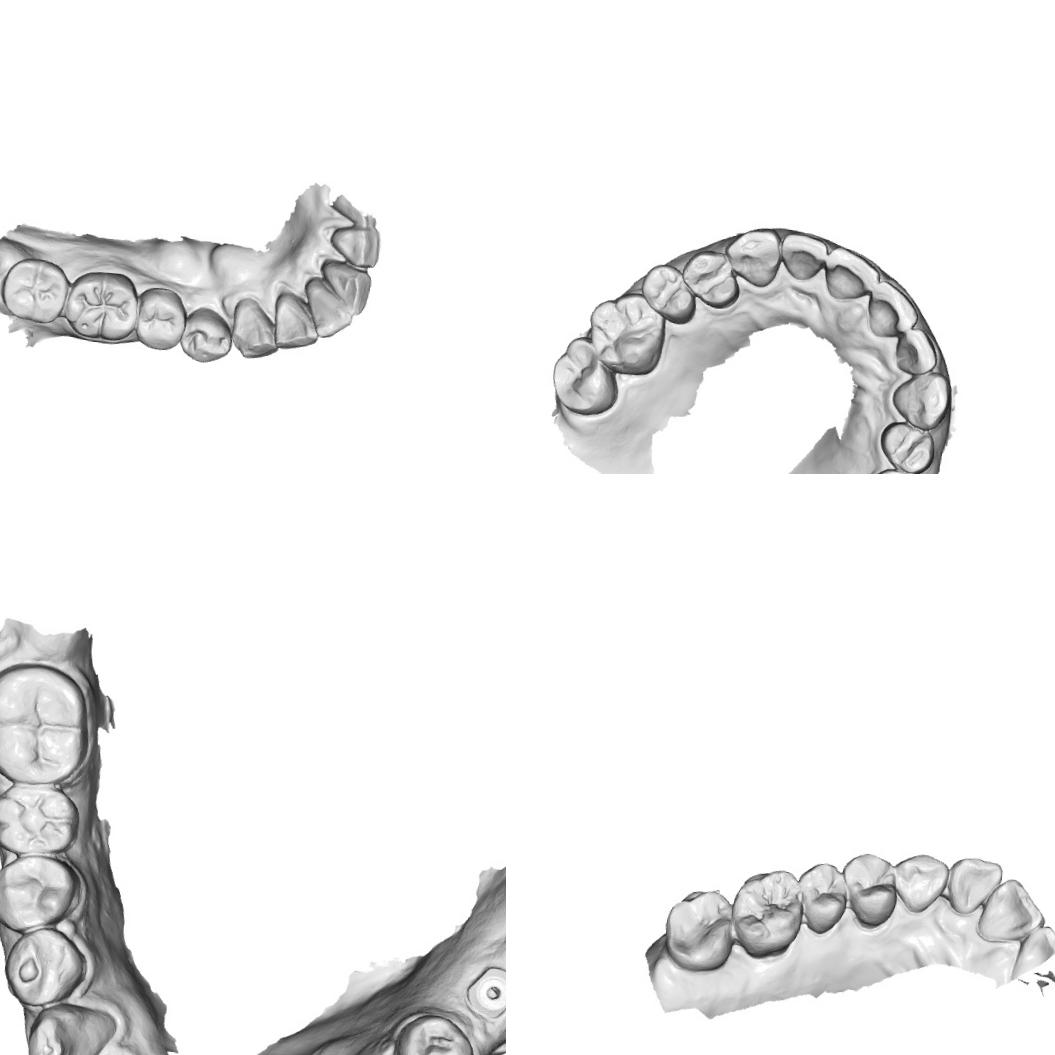canine: (20, 997, 115, 1055), (720, 221, 784, 291), (890, 849, 951, 917), (888, 368, 951, 432), (227, 295, 283, 361)
implant: (462, 957, 506, 1022)
incisor: (976, 874, 1048, 958), (943, 854, 1004, 919), (300, 274, 356, 340), (270, 288, 324, 353), (315, 257, 374, 316), (864, 278, 920, 340), (821, 244, 880, 302), (1010, 920, 1055, 985), (778, 225, 830, 280), (326, 218, 382, 268), (892, 325, 940, 376)
molar: (0, 659, 95, 791), (725, 864, 807, 962), (582, 287, 671, 375), (0, 777, 82, 861), (660, 883, 734, 976), (548, 333, 620, 420), (60, 266, 140, 343), (0, 252, 72, 326)
premolar: (0, 925, 86, 1010), (0, 854, 81, 932), (837, 849, 899, 932), (796, 858, 850, 938), (386, 1008, 476, 1055), (678, 246, 742, 311), (131, 282, 189, 352), (637, 259, 698, 325), (176, 303, 235, 364), (876, 418, 937, 474)
